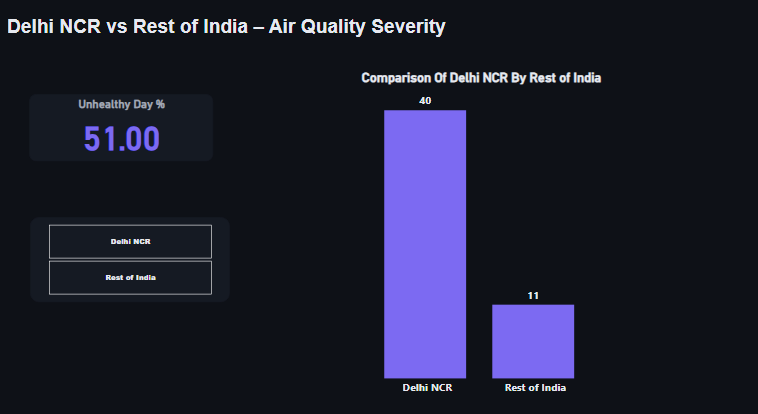

The dashboard page shown, as its layout file describes it:
{"tool":"powerbi","page":{"name":"Delhi NCR Deep Drive","canvas":[1280,720],"ordinal":2},"visuals":[{"type":"columnChart","title":"Comparison Of Delhi NCR  By Rest of India","fields":{"Category":["public vw_ncr_severity_summary.region_flag"],"Y":["Sum(public vw_ncr_severity_summary.unhealthy_day_percentage)"]},"box":[482,130.8,658.3,551],"z":0},{"type":"card","title":"Unhealthy Day %","fields":{"Values":["Sum(public vw_ncr_severity_summary.unhealthy_day_percentage)"]},"box":[55.8,170.4,307.1,111.7],"z":1000},{"type":"slicer","fields":{"Values":["public vw_ncr_severity_summary.region_flag"]},"box":[58.3,375,333.3,141.7],"z":2000},{"type":"textbox","box":[14.7,35.3,753.8,63.2],"z":3000}]}

Visuals, with their boxes in screenshot pixels (x1, y1, x2, y2), scaled from the page's 1280x720 canvas onto the 758x414 screenshot:
"Comparison Of Delhi NCR  By Rest of India" columnChart: <bbox>285, 75, 675, 392</bbox>
"Unhealthy Day %" card: <bbox>33, 98, 215, 162</bbox>
slicer - public vw_ncr_severity_summary.region_flag: <bbox>35, 216, 232, 297</bbox>
textbox: <bbox>9, 20, 455, 57</bbox>
